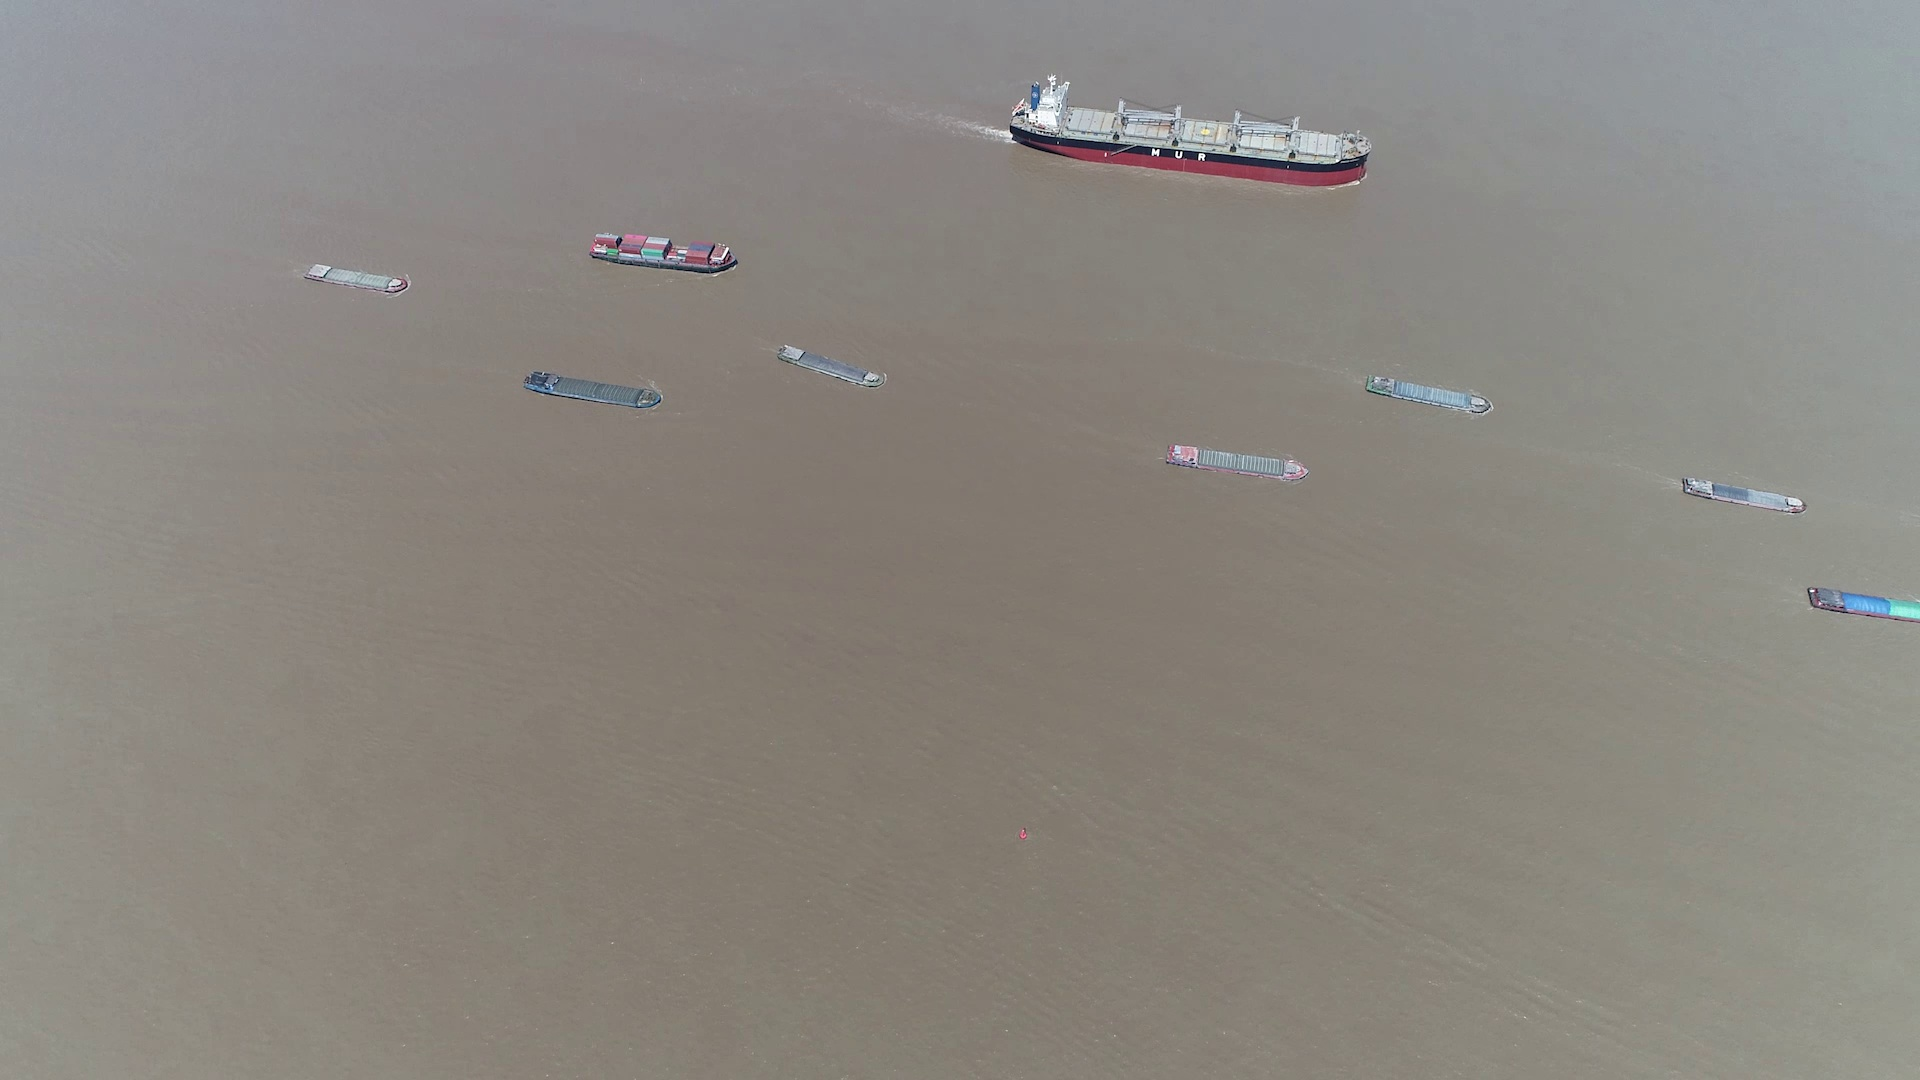ship: (1011, 76, 1367, 183), (571, 243, 723, 287), (587, 231, 738, 272), (1167, 442, 1309, 483), (522, 372, 663, 410), (1364, 375, 1494, 415), (775, 345, 887, 392), (1681, 473, 1807, 514), (1807, 585, 1919, 622), (303, 262, 409, 293)
